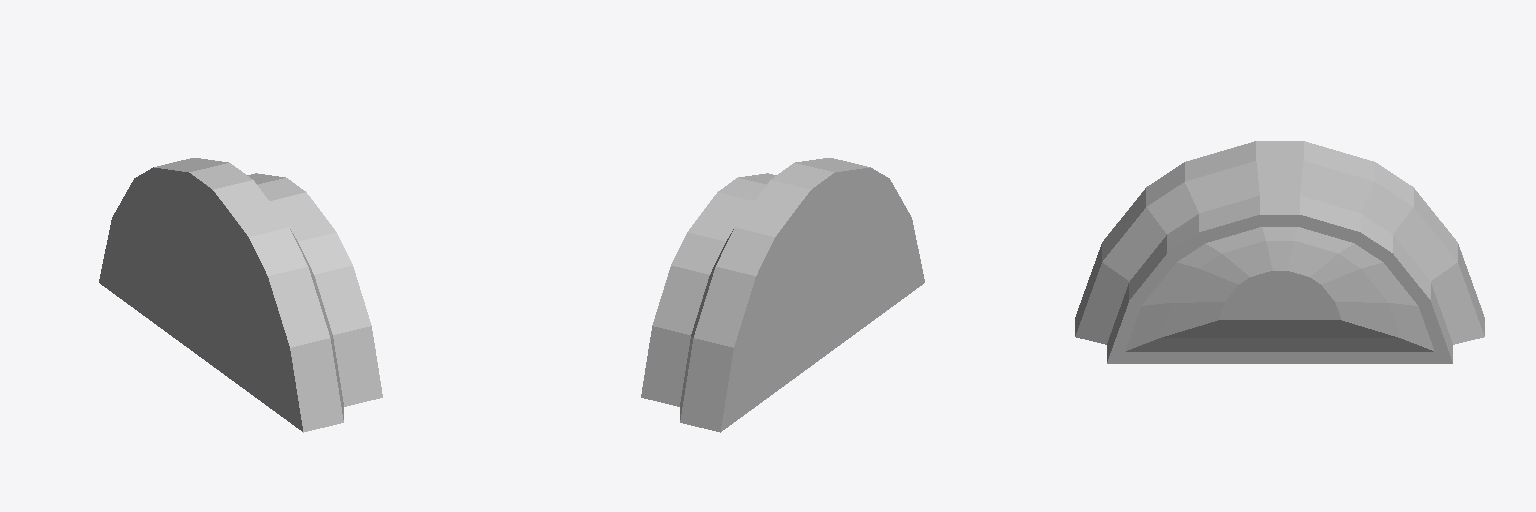
The model's file is Barometer.obj.
3 views of the same model, side by side, from view 1: azimuth 30°, elevation 25°; view 2: azimuth 150°, elevation 25°; view 3: azimuth 270°, elevation 25° (orthographic).
Visible parts, largest first — view 1: Cylinder; view 2: Cylinder; view 3: Cylinder.
Part boxes in pixels (x1,y1,x2,y2): Cylinder: (99, 158, 382, 432); Cylinder: (641, 158, 924, 432); Cylinder: (1075, 141, 1484, 363).
Size of the model in its own units: 0.7323 by 1.12 by 2.36.